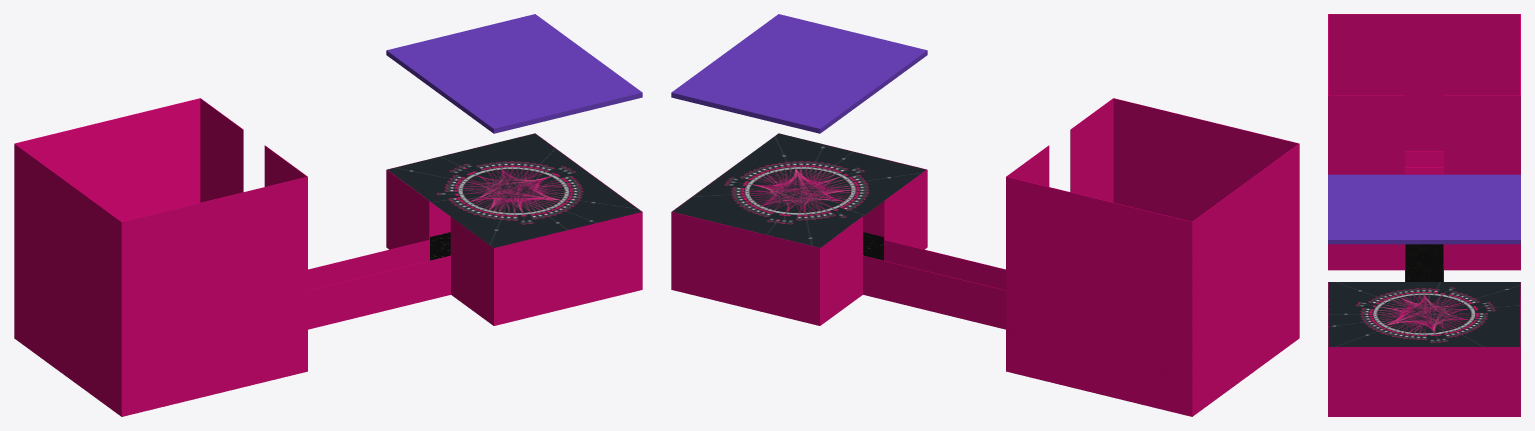
Rendered from walls6.glb.
3 renders of one model, left to right at view 1: azimuth 30°, elevation 25°; view 2: azimuth 150°, elevation 25°; view 3: azimuth 270°, elevation 25°, orthographic. The views are drawn at different scales.
Parts seen in each view (by area): view 1: Cube.018, Cube.015, Cube.006, Plane.001, Cube.014, Cube.005, Cube.008, Cube.012, Cube.009, Cube.007, Cube.010, Cube.016 (+1 smaller); view 2: Cube.014, Cube.015, Cube.006, Plane.001, Cube.018, Cube.003, Cube.010, Cube.016, Cube.007, Cube.009, Cube.008, Cube.012 (+1 smaller); view 3: Cube.015, Cube.006, Cube.004, Plane.001, Cube.012, Cube.016, FloorBaseGrass_01.001, Cube.020, Plane, Cube.017.
Part boxes in pixels (bbox=[...]): Cube.018: bbox=[121, 176, 307, 416]; Cube.015: bbox=[14, 143, 121, 416]; Cube.006: bbox=[386, 14, 642, 133]; Plane.001: bbox=[387, 133, 642, 247]; Cube.014: bbox=[15, 98, 200, 221]; Cube.005: bbox=[493, 212, 642, 325]; Cube.008: bbox=[308, 255, 450, 329]; Cube.012: bbox=[200, 98, 243, 202]; Cube.009: bbox=[450, 217, 493, 325]; Cube.007: bbox=[386, 170, 429, 260]; Cube.010: bbox=[308, 240, 429, 290]; Cube.016: bbox=[264, 145, 307, 371]; Cube.014: bbox=[1006, 176, 1192, 416]; Cube.015: bbox=[1192, 143, 1299, 416]; Cube.006: bbox=[671, 14, 927, 133]; Plane.001: bbox=[672, 133, 926, 247]; Cube.018: bbox=[1113, 98, 1298, 221]; Cube.003: bbox=[671, 212, 820, 325]; Cube.010: bbox=[863, 255, 1005, 329]; Cube.016: bbox=[1070, 98, 1113, 202]; Cube.007: bbox=[819, 216, 862, 325]; Cube.009: bbox=[884, 170, 927, 260]; Cube.008: bbox=[884, 240, 1005, 290]; Cube.012: bbox=[1006, 145, 1049, 371]; Cube.015: bbox=[1328, 14, 1520, 151]; Cube.006: bbox=[1328, 174, 1520, 244]; Cube.004: bbox=[1328, 347, 1520, 416]; Plane.001: bbox=[1328, 282, 1520, 346]; Cube.012: bbox=[1443, 95, 1520, 270]; Cube.016: bbox=[1328, 95, 1405, 270]; FloorBaseGrass_01.001: bbox=[1405, 244, 1443, 270]; Cube.020: bbox=[1405, 151, 1443, 167]; Plane: bbox=[1405, 270, 1443, 281]; Cube.017: bbox=[1405, 167, 1443, 174].
Size of what is drawn, in the model's own units: 224 by 81.07 by 80.
16 materials, 8 textured.
